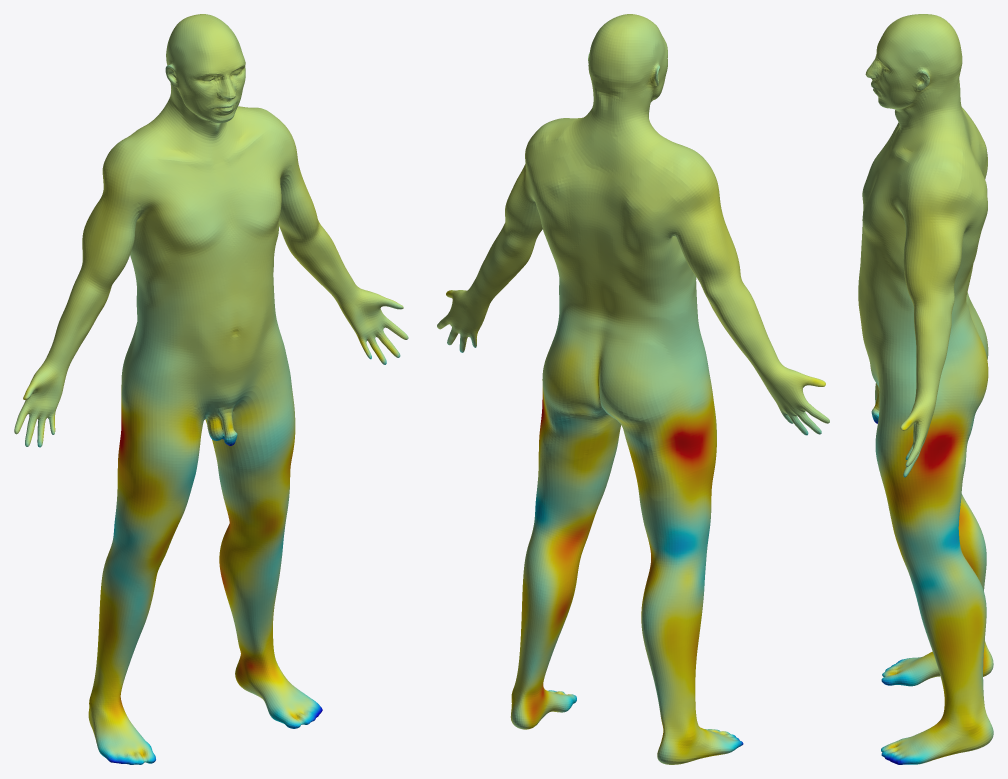
The model's file is errormap.glb.
3 renders of one model, left to right at view 1: azimuth 30°, elevation 25°; view 2: azimuth 150°, elevation 25°; view 3: azimuth 270°, elevation 25°, orthographic.
Parts seen in each view (by area): view 1: world; view 2: world; view 3: world.
Part boxes in pixels (bbox=[...]): world: bbox=[14, 14, 408, 764]; world: bbox=[437, 14, 829, 764]; world: bbox=[858, 14, 993, 764].
Size of the model in its own units: 1.05 by 1.83 by 0.3198.
